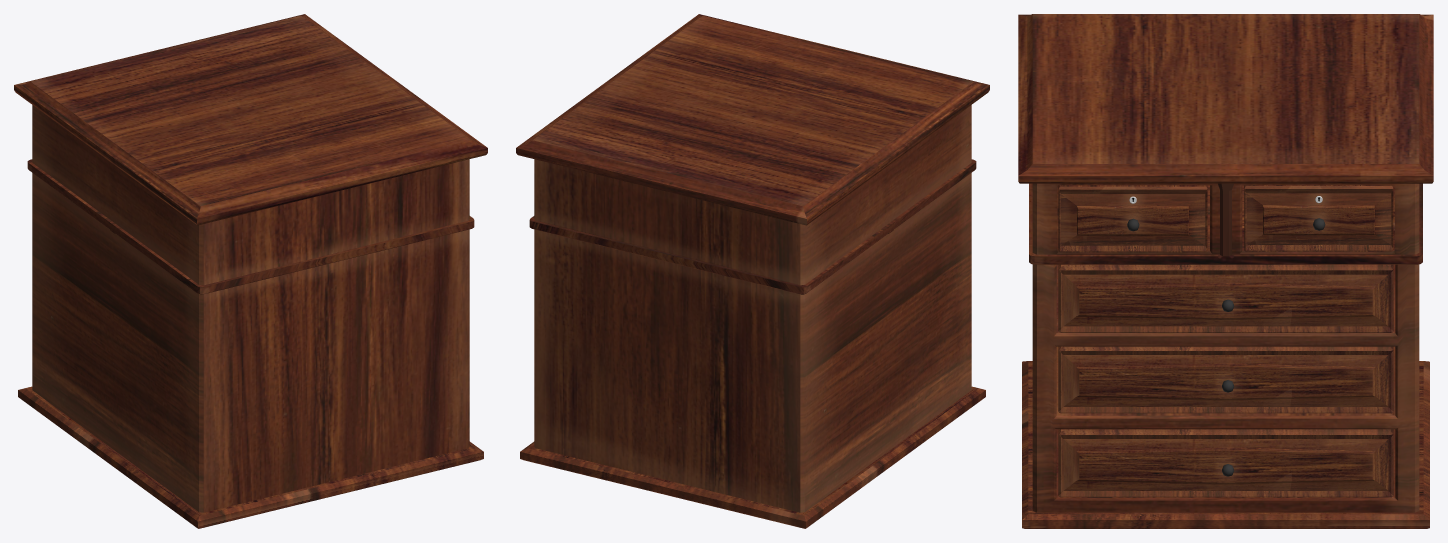
Rendered from comod.fbx.
3 renders of one model, left to right at view 1: azimuth 30°, elevation 25°; view 2: azimuth 150°, elevation 25°; view 3: azimuth 270°, elevation 25°, orthographic. The views are drawn at different scales.
Parts seen in each view (by area): view 1: Cube; view 2: Cube; view 3: Cube, Cube.004, Cube.003, Cube.002, Cube.007, Cube.005.
Boxes of the visible parts, x1=… form: Cube: x1=14, y1=14, x2=487, y2=528; Cube: x1=516, y1=14, x2=989, y2=528; Cube: x1=1018, y1=14, x2=1433, y2=528; Cube.004: x1=1058, y1=264, x2=1393, y2=332; Cube.003: x1=1058, y1=429, x2=1393, y2=497; Cube.002: x1=1058, y1=346, x2=1393, y2=413; Cube.007: x1=1058, y1=185, x2=1207, y2=252; Cube.005: x1=1244, y1=185, x2=1393, y2=251.
Size of the model in its own units: 219 by 225 by 234.
